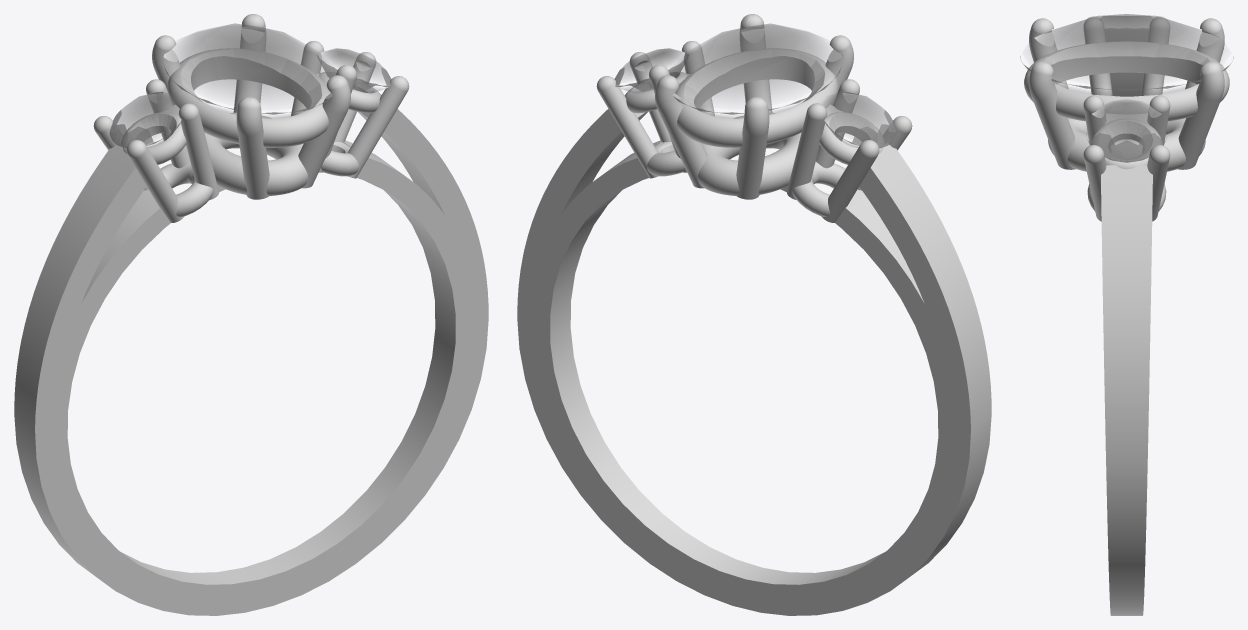
3 renders of one model, left to right at view 1: azimuth 30°, elevation 25°; view 2: azimuth 150°, elevation 25°; view 3: azimuth 270°, elevation 25°, orthographic.
Parts seen in each view (by area): view 1: color, 0_aquamarine 01 perso qi, 0_aquamarine 01 perso qi_clonedChild, amethyst 01, amethyst 01_clonedChild; view 2: color, 0_aquamarine 01 perso qi, 0_aquamarine 01 perso qi_clonedChild, amethyst 01, amethyst 01_clonedChild; view 3: color, 0_aquamarine 01 perso qi, 0_aquamarine 01 perso qi_clonedChild, amethyst 01, amethyst 01_clonedChild.
Boxes of the visible parts, box(x1,y1,x2,y2) form: color: box(14, 14, 488, 615); 0_aquamarine 01 perso qi: box(165, 24, 332, 117); 0_aquamarine 01 perso qi_clonedChild: box(165, 24, 331, 114); amethyst 01: box(109, 48, 391, 148); amethyst 01_clonedChild: box(110, 48, 390, 147); color: box(517, 14, 991, 615); 0_aquamarine 01 perso qi: box(673, 24, 841, 117); 0_aquamarine 01 perso qi_clonedChild: box(674, 24, 840, 114); amethyst 01: box(614, 48, 896, 148); amethyst 01_clonedChild: box(615, 48, 895, 147); color: box(1024, 16, 1229, 615); 0_aquamarine 01 perso qi: box(1020, 14, 1230, 95); 0_aquamarine 01 perso qi_clonedChild: box(1025, 14, 1228, 90); amethyst 01: box(1088, 16, 1167, 162); amethyst 01_clonedChild: box(1088, 100, 1164, 162).
Size of the model in its own units: 0.0202 by 0.0237 by 0.00823.
3 materials, 2 textured.
